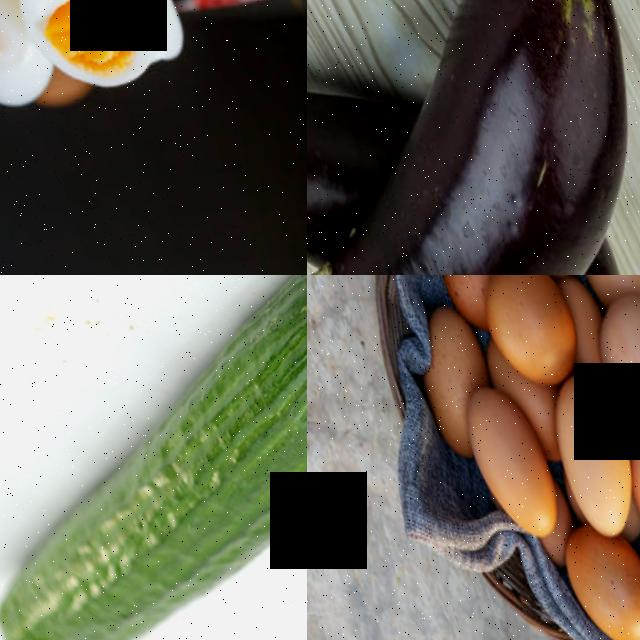cucumber: (0, 275, 307, 640)
egg_: (449, 366, 561, 539), (531, 357, 640, 531), (0, 0, 165, 103), (466, 275, 587, 389), (545, 513, 640, 640), (577, 275, 640, 426), (610, 405, 640, 564)
eggplant: (356, 0, 640, 275), (307, 14, 394, 271), (307, 183, 539, 275)
